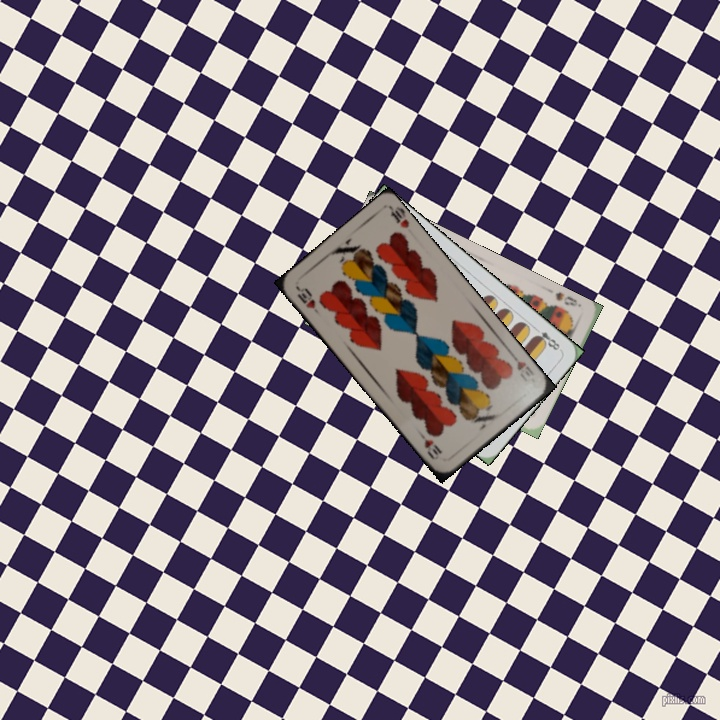E8: (530, 323, 562, 353)
H10: (292, 283, 323, 318), (507, 350, 537, 384)
S8: (551, 288, 584, 310)
